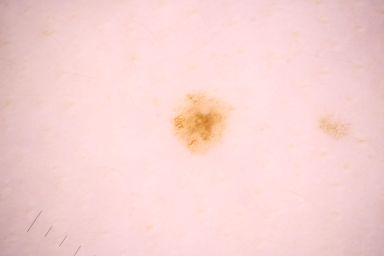nevus: (172, 90, 226, 153)
